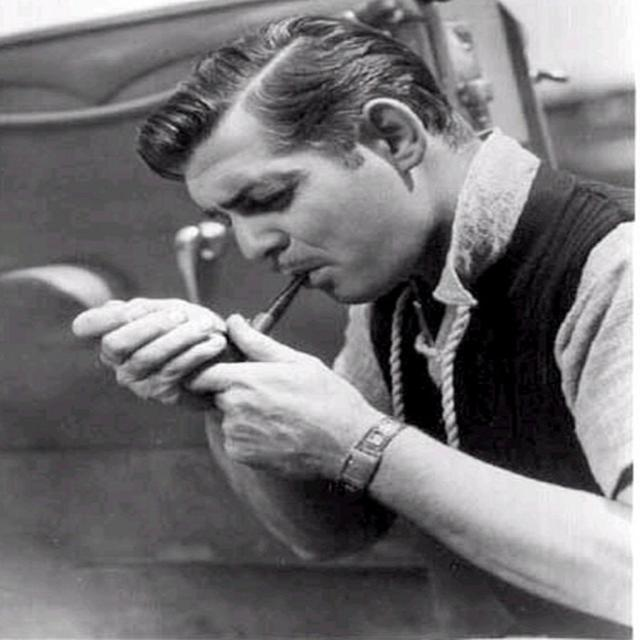smoking: (69, 20, 504, 442)
